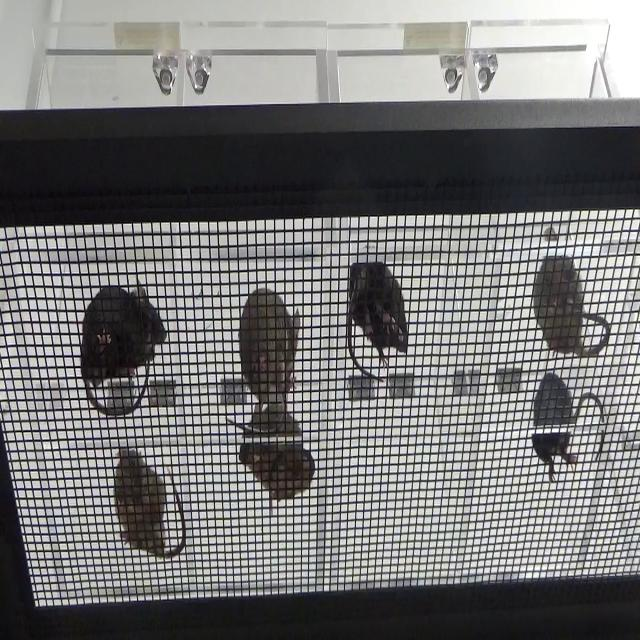lick tail: (528, 249, 616, 372)
